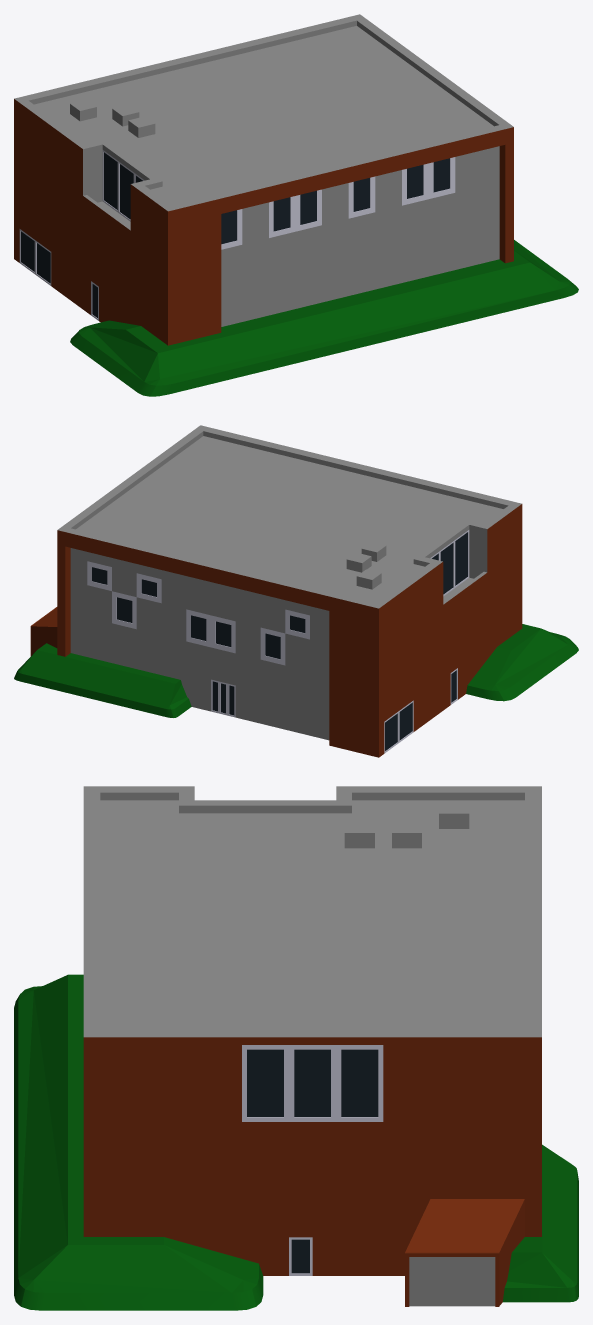
The model's file is Boekenmagazijn_RUG.fbx.
3 renders of one model, top to bottom at view 1: azimuth 30°, elevation 25°; view 2: azimuth 150°, elevation 25°; view 3: azimuth 270°, elevation 25°, orthographic. The views are drawn at different scales.
Parts seen in each view (by area): view 1: Box001, Box003; view 2: Box001, Box003; view 3: Box001, Box003.
Boxes of the visible parts, <box> form: Box001: <box>14,14,513,345</box>; Box003: <box>70,240,578,396</box>; Box001: <box>30,425,522,757</box>; Box003: <box>14,624,578,717</box>; Box001: <box>83,786,541,1306</box>; Box003: <box>14,974,578,1310</box>.
Bounding box in the file's own units: 349 × 126 × 262.
